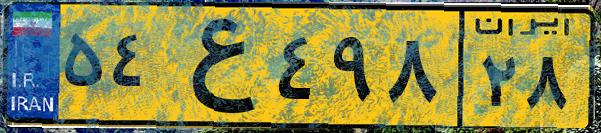2: (475, 38, 525, 113)
4: (270, 28, 330, 110), (110, 28, 158, 98)
5: (57, 26, 110, 100)
8: (385, 28, 445, 110), (525, 38, 570, 115)
9: (330, 28, 385, 110)
ع: (158, 12, 270, 120)
